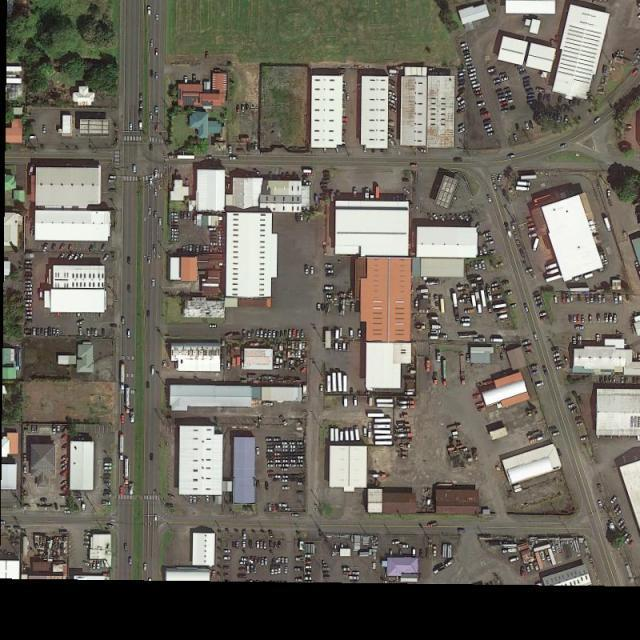vehicle: (118, 434, 125, 462), (460, 355, 466, 386), (124, 459, 130, 487), (442, 360, 448, 387), (603, 217, 613, 233), (121, 365, 126, 394), (126, 387, 131, 414), (394, 433, 414, 439), (448, 424, 462, 432), (532, 238, 540, 252), (440, 296, 446, 314), (471, 293, 478, 307), (494, 303, 507, 310), (371, 473, 386, 479), (515, 186, 530, 192), (60, 470, 70, 478), (542, 365, 549, 376), (464, 216, 472, 225), (397, 429, 411, 434), (517, 182, 531, 187), (62, 434, 70, 442), (487, 70, 496, 77), (388, 94, 397, 101), (471, 82, 480, 89), (539, 311, 548, 318), (518, 249, 525, 258), (483, 231, 492, 238), (524, 303, 530, 313), (534, 382, 544, 388), (427, 523, 437, 529), (399, 401, 414, 405), (399, 405, 414, 409), (398, 423, 410, 428), (418, 289, 430, 294), (404, 186, 411, 194), (593, 118, 601, 125), (427, 214, 434, 222), (439, 215, 446, 223), (525, 267, 533, 274), (60, 455, 68, 462), (61, 459, 69, 466), (60, 479, 68, 486), (486, 67, 495, 73), (482, 118, 491, 124), (477, 102, 486, 108), (444, 213, 450, 222), (481, 261, 487, 270), (473, 261, 479, 270), (494, 263, 503, 269), (529, 364, 538, 370), (531, 370, 540, 376), (555, 361, 564, 367), (634, 261, 640, 270), (507, 154, 517, 159), (534, 300, 544, 305), (574, 416, 584, 421), (457, 93, 464, 100), (449, 214, 456, 221), (459, 215, 466, 222), (85, 530, 92, 537), (61, 443, 68, 450), (610, 497, 617, 504), (614, 506, 621, 513), (618, 519, 625, 526), (294, 213, 300, 221), (78, 254, 84, 262), (497, 93, 505, 99), (523, 122, 529, 130), (433, 214, 439, 222), (484, 124, 492, 130), (389, 106, 397, 112), (418, 147, 426, 153), (468, 68, 476, 74), (470, 80, 478, 86), (534, 295, 542, 301), (482, 246, 488, 254), (522, 340, 530, 346), (548, 426, 556, 432), (82, 560, 90, 566), (268, 530, 274, 538), (387, 134, 395, 140), (152, 278, 157, 287), (486, 194, 491, 203), (513, 232, 518, 241), (52, 425, 57, 434), (103, 256, 110, 262), (74, 254, 80, 261), (67, 254, 74, 260), (43, 126, 49, 133), (493, 78, 500, 84), (560, 143, 567, 149), (474, 86, 481, 92), (475, 222, 481, 229), (525, 350, 532, 356), (510, 303, 517, 309), (552, 432, 559, 438), (62, 464, 69, 470), (353, 187, 358, 195), (246, 142, 251, 150), (43, 244, 48, 252), (148, 6, 152, 16), (149, 111, 154, 119), (129, 122, 134, 130), (486, 128, 494, 133), (498, 98, 506, 103), (513, 134, 518, 142), (481, 112, 489, 117), (466, 65, 474, 70), (469, 76, 477, 81), (570, 409, 578, 414), (528, 234, 538, 238), (576, 422, 584, 427), (487, 241, 495, 246), (488, 250, 496, 255), (478, 247, 483, 255), (580, 436, 588, 441), (102, 501, 110, 506), (66, 510, 74, 515), (433, 546, 437, 556), (598, 501, 603, 509), (551, 346, 559, 351), (608, 376, 613, 384), (127, 257, 131, 266), (241, 104, 245, 113), (240, 137, 249, 141), (230, 156, 239, 160), (58, 254, 64, 260), (154, 169, 158, 178), (632, 70, 638, 76), (389, 83, 395, 89), (492, 185, 498, 191), (594, 293, 598, 302), (614, 294, 618, 303), (84, 544, 90, 550), (92, 562, 96, 571), (168, 494, 174, 500), (246, 565, 250, 574), (349, 577, 358, 581), (354, 398, 358, 407), (510, 558, 519, 562), (624, 539, 630, 545), (616, 510, 622, 516), (578, 336, 582, 345), (573, 337, 577, 346), (621, 524, 627, 530), (299, 214, 304, 221), (91, 329, 96, 336), (77, 321, 84, 326), (51, 243, 56, 250), (89, 244, 94, 251), (154, 48, 159, 55), (138, 122, 143, 129), (28, 134, 35, 139), (499, 73, 506, 78), (502, 109, 509, 114), (514, 123, 519, 130), (461, 46, 468, 51), (388, 90, 395, 95), (389, 98, 396, 103), (458, 129, 465, 134), (458, 124, 465, 129), (537, 304, 544, 309), (567, 404, 574, 409), (478, 262, 483, 269), (505, 290, 512, 295), (149, 454, 154, 461), (119, 487, 124, 494), (629, 541, 634, 548), (553, 353, 560, 358), (554, 357, 561, 362), (625, 294, 630, 301), (519, 70, 526, 75), (210, 246, 214, 254), (210, 242, 218, 246), (305, 266, 309, 274), (325, 264, 333, 268), (154, 210, 158, 218), (128, 285, 132, 293), (250, 142, 254, 150), (95, 329, 99, 337), (45, 329, 49, 337), (243, 330, 247, 338), (151, 366, 155, 374), (146, 382, 150, 390), (148, 206, 152, 214), (205, 51, 209, 59), (192, 74, 196, 82), (149, 177, 153, 185), (153, 187, 157, 195), (458, 73, 466, 77), (469, 74, 477, 78), (498, 174, 502, 182), (491, 175, 495, 183), (562, 295, 566, 303), (566, 294, 570, 302), (570, 295, 574, 303), (586, 294, 590, 302), (590, 294, 594, 302), (618, 294, 622, 302), (486, 237, 494, 241), (419, 550, 423, 558), (255, 448, 259, 456), (265, 482, 269, 490), (269, 504, 273, 512), (282, 441, 290, 445), (57, 425, 61, 433), (23, 478, 27, 486), (129, 558, 133, 566), (256, 542, 260, 550), (254, 566, 258, 574), (351, 572, 359, 576), (320, 385, 324, 393), (222, 557, 230, 561), (589, 314, 593, 322), (596, 314, 600, 322), (614, 314, 618, 322), (557, 114, 561, 122), (237, 148, 243, 153), (60, 244, 65, 250), (464, 54, 470, 59), (389, 102, 395, 107), (458, 101, 464, 106), (84, 535, 90, 540), (24, 454, 27, 464), (187, 212, 191, 219), (214, 246, 218, 253), (326, 286, 333, 290), (171, 238, 178, 242), (254, 143, 258, 150), (110, 323, 117, 327), (102, 244, 106, 251), (150, 39, 154, 46), (150, 70, 154, 77), (139, 111, 143, 118), (27, 120, 34, 124), (501, 77, 508, 81), (503, 87, 510, 91), (410, 162, 417, 166), (460, 42, 467, 46), (554, 296, 558, 303), (598, 295, 602, 302), (492, 282, 499, 286), (534, 333, 538, 340), (96, 562, 100, 569), (256, 481, 260, 488), (266, 438, 273, 442), (267, 445, 274, 449), (23, 466, 27, 473), (104, 466, 111, 470), (103, 478, 110, 482), (392, 541, 399, 545), (274, 567, 278, 574), (267, 471, 274, 475), (282, 474, 289, 478), (297, 482, 304, 486), (154, 514, 158, 521), (242, 542, 246, 549), (390, 550, 394, 557), (412, 550, 416, 557), (599, 377, 603, 384), (564, 116, 568, 123), (536, 88, 543, 92), (206, 244, 209, 253), (246, 104, 249, 113), (163, 360, 166, 369), (227, 361, 230, 370), (144, 563, 147, 572), (342, 568, 351, 571), (210, 230, 216, 234), (311, 266, 314, 274), (350, 330, 354, 336), (159, 218, 162, 226), (229, 145, 232, 153), (206, 157, 214, 160), (172, 222, 178, 226), (297, 330, 300, 338), (80, 329, 83, 337), (41, 328, 44, 336), (33, 328, 36, 336), (26, 276, 32, 280), (284, 330, 288, 336), (268, 330, 271, 338), (147, 310, 150, 318), (122, 318, 125, 326), (127, 330, 130, 338), (108, 189, 116, 192), (110, 180, 118, 183), (110, 175, 118, 178), (138, 93, 142, 99), (139, 102, 143, 108), (150, 142, 153, 150), (133, 165, 136, 173), (24, 312, 32, 315), (496, 90, 502, 94), (506, 92, 512, 96), (346, 94, 350, 100), (453, 158, 461, 161), (466, 58, 472, 62), (607, 190, 610, 198), (569, 314, 572, 322), (206, 496, 209, 504), (292, 514, 298, 518), (278, 504, 286, 507), (104, 482, 110, 486), (104, 493, 110, 497), (166, 505, 174, 508), (271, 567, 274, 575), (296, 557, 302, 561), (295, 567, 301, 571), (573, 315, 576, 323), (577, 314, 580, 322), (581, 314, 584, 322), (304, 571, 312, 574), (296, 578, 302, 582), (575, 326, 583, 329), (597, 334, 600, 342), (605, 376, 608, 384), (624, 377, 627, 385), (637, 376, 640, 384), (182, 246, 185, 253), (189, 244, 192, 251), (196, 245, 199, 252), (199, 246, 202, 253), (326, 270, 333, 273), (359, 329, 362, 336), (171, 235, 178, 238), (153, 246, 156, 253), (148, 256, 151, 263), (87, 329, 90, 336), (37, 328, 40, 335), (25, 262, 32, 265), (26, 268, 33, 271), (25, 307, 32, 310), (280, 330, 283, 337), (276, 331, 279, 338), (273, 331, 276, 338), (261, 330, 264, 337), (252, 330, 255, 337), (248, 331, 251, 338), (155, 107, 158, 114), (31, 424, 34, 431), (578, 294, 581, 301), (602, 295, 605, 302), (401, 546, 408, 549), (190, 496, 193, 503), (274, 446, 281, 449), (290, 446, 297, 449), (104, 463, 111, 466), (282, 446, 289, 449), (264, 542, 267, 549), (274, 542, 277, 549), (278, 542, 281, 549), (242, 558, 249, 561), (238, 575, 245, 578), (278, 567, 281, 574), (304, 566, 311, 569), (236, 542, 239, 549), (274, 460, 281, 463), (274, 475, 281, 478), (318, 303, 321, 310), (243, 532, 246, 539), (223, 550, 230, 553), (521, 569, 524, 576), (613, 376, 616, 383), (621, 376, 624, 383), (633, 376, 636, 383), (68, 246, 72, 251), (298, 442, 303, 446), (203, 246, 206, 252), (25, 317, 31, 320), (326, 274, 332, 277), (180, 212, 183, 218), (237, 105, 239, 114), (172, 219, 178, 222), (302, 331, 305, 337), (102, 330, 105, 336), (57, 330, 60, 336), (26, 281, 32, 284), (25, 289, 31, 292), (289, 330, 292, 336), (101, 561, 104, 567), (274, 438, 280, 441), (284, 508, 290, 511), (270, 542, 273, 548), (261, 559, 264, 565), (249, 541, 252, 547), (283, 460, 289, 463), (290, 460, 296, 463), (282, 468, 288, 471), (293, 330, 295, 338), (264, 330, 266, 338), (185, 76, 187, 84), (282, 488, 290, 490), (125, 544, 127, 552), (238, 568, 246, 570), (251, 557, 253, 565), (254, 557, 256, 565), (285, 567, 287, 575), (305, 578, 313, 580), (605, 314, 607, 322), (610, 314, 612, 322), (155, 126, 158, 131), (35, 426, 38, 431), (105, 470, 110, 473), (298, 456, 303, 459), (171, 213, 178, 215), (171, 229, 178, 231), (171, 233, 178, 235), (49, 328, 51, 335), (25, 293, 32, 295), (25, 304, 32, 306), (210, 326, 217, 328), (156, 15, 158, 22), (194, 496, 196, 503), (289, 442, 296, 444), (343, 572, 350, 574), (282, 480, 289, 482), (518, 68, 525, 70), (209, 228, 215, 230), (186, 245, 188, 251), (193, 245, 195, 251), (184, 212, 186, 218), (172, 226, 178, 228), (53, 329, 55, 335), (26, 286, 32, 288), (257, 330, 259, 336), (156, 73, 158, 79), (298, 446, 304, 448), (258, 558, 260, 564), (260, 542, 262, 548), (268, 460, 274, 462), (268, 465, 274, 467), (276, 465, 282, 467), (291, 464, 297, 466), (637, 50, 640, 54), (26, 300, 31, 302), (298, 492, 303, 494), (298, 465, 303, 467), (171, 217, 178, 218), (266, 560, 267, 566), (25, 297, 30, 298), (285, 465, 290, 466), (298, 461, 302, 462)
